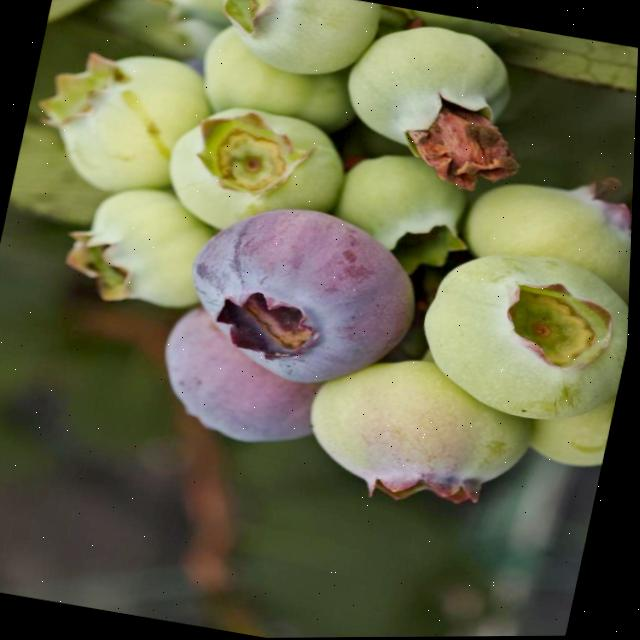Semi-RipeBlueBerry: (175, 192, 423, 388), (151, 306, 343, 455)
UnripeBlueBerry: (407, 241, 633, 435), (299, 347, 546, 517), (43, 38, 209, 201), (345, 13, 516, 162), (164, 95, 349, 221), (456, 166, 635, 296), (66, 180, 224, 319), (329, 142, 484, 266), (215, 0, 384, 89)
